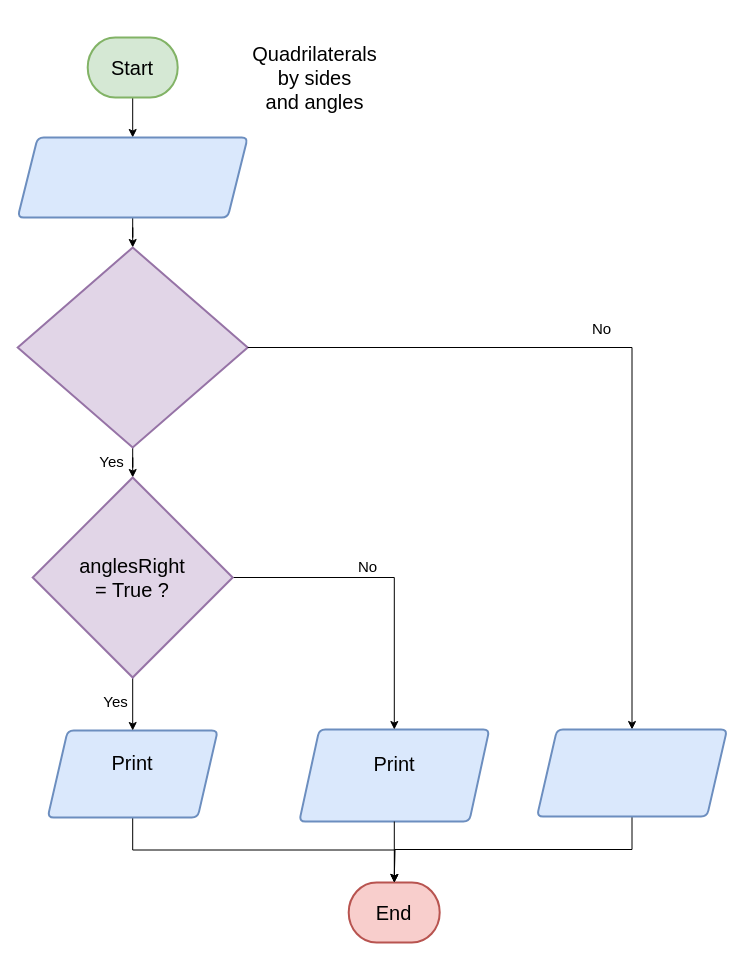
The diagram is 746 pixels wide and 960 high, and some of its shapes have lost their labels. Here are the shapes that lost their labels. From the top down, the centre of each, then its label:
[132,177]: Input oppositeS idesEqual, anglesRight
[132,347]: oppositeSidesEqual = True ?
[632,772]: Print "Other Quadrilateral"
